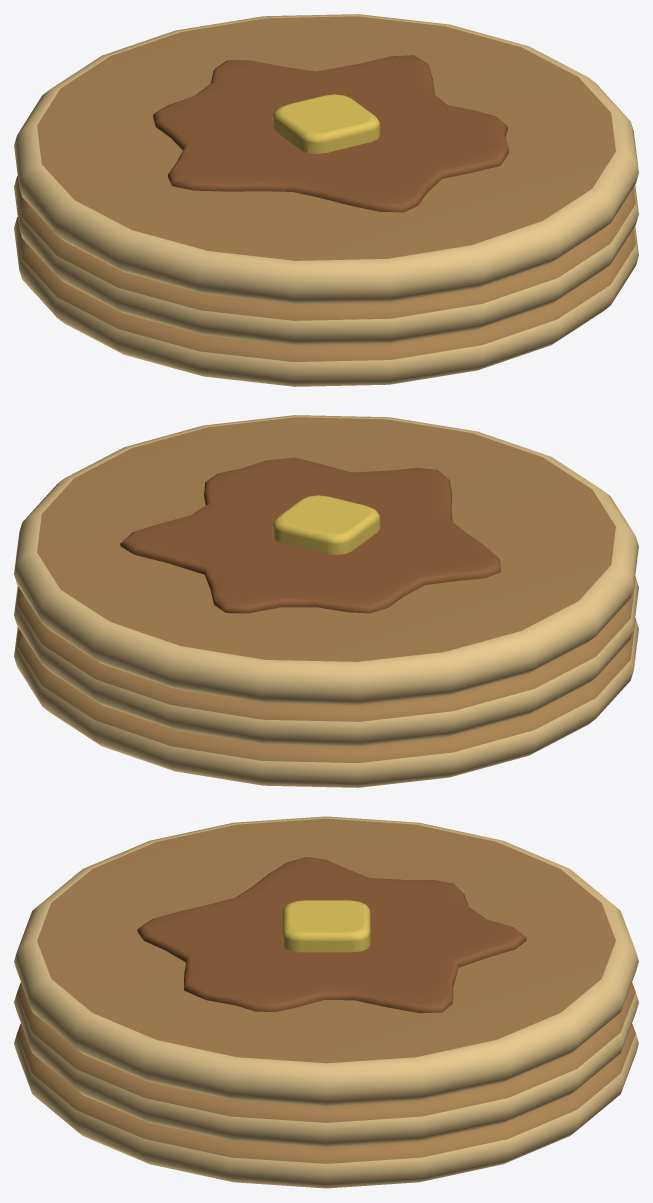
The model's file is Pancake.fbx.
3 renders of one model, top to bottom at view 1: azimuth 30°, elevation 25°; view 2: azimuth 150°, elevation 25°; view 3: azimuth 270°, elevation 25°, orthographic.
Visible parts, largest first — view 1: Pancake; view 2: Pancake; view 3: Pancake.
Boxes of the visible parts, x1,y1,x2,y2 form: Pancake: [14, 14, 638, 386]; Pancake: [14, 415, 638, 787]; Pancake: [14, 816, 638, 1188].
Size of the model in its own units: 2 by 0.5214 by 2.
